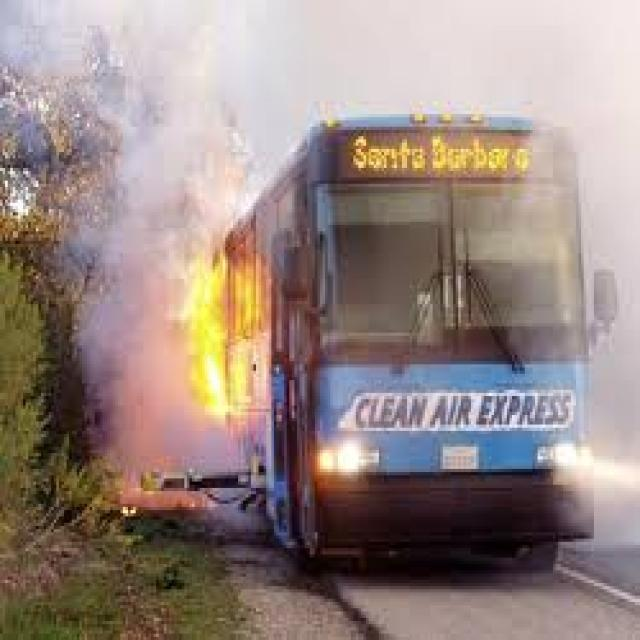Fire: (188, 254, 236, 418)
Smoke: (92, 8, 189, 458)
